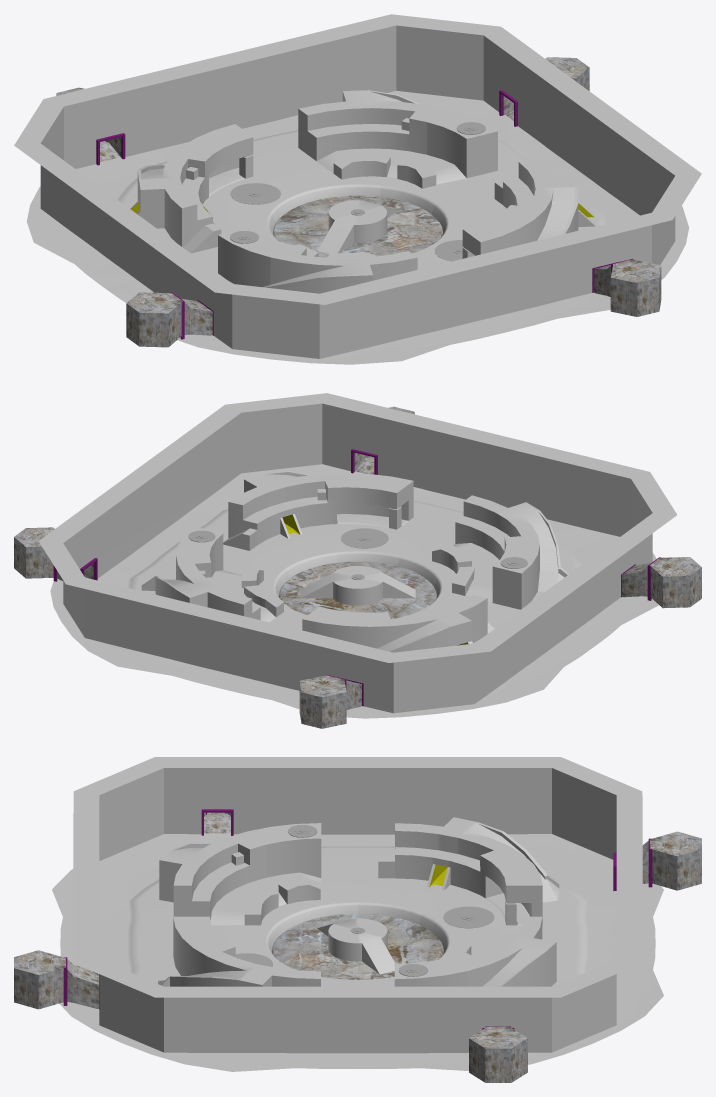
File: LevelTextured 1.fbx
3 views of the same model, one above another, from view 1: azimuth 30°, elevation 25°; view 2: azimuth 150°, elevation 25°; view 3: azimuth 270°, elevation 25° (orthographic). The views are drawn at different scales.
Visible parts, largest first — view 1: polySurface47 (×4), courtyard_outer_5 (×2), polySurface30 (×2), polySurface46, polySurface34, polySurface43, polySurface44, polySurface45, polySurface42, courtyard_cover1, polySurface51, polySurface38 (+8 smaller); view 2: polySurface47 (×4), polySurface30 (×2), courtyard_outer_5 (×2), polySurface42, polySurface41, courtyard_cover1 (×2), polySurface46, polySurface34, polySurface38, polySurface45, polySurface39, polySurface51 (+6 smaller); view 3: polySurface47 (×4), polySurface30 (×2), courtyard_outer_5 (×2), polySurface43, polySurface38, polySurface44, polySurface34, polySurface45, polySurface39, polySurface41, polySurface50, polySurface42 (+7 smaller).
Part boxes in pixels (x1,y1,x2,y2): polySurface47 (×4): [14, 14, 701, 358]; courtyard_outer_5 (×2): [218, 90, 497, 293]; polySurface30 (×2): [130, 124, 595, 258]; polySurface46: [380, 95, 578, 213]; polySurface34: [273, 195, 442, 257]; polySurface43: [39, 142, 315, 222]; polySurface44: [26, 188, 277, 286]; polySurface45: [242, 90, 439, 200]; polySurface42: [431, 171, 689, 260]; courtyard_cover1: [316, 148, 466, 188]; polySurface51: [126, 292, 212, 347]; polySurface38: [272, 266, 504, 364]; polySurface47 (×4): [38, 393, 676, 713]; polySurface30 (×2): [228, 470, 487, 652]; courtyard_outer_5 (×2): [141, 495, 568, 620]; polySurface42: [152, 468, 337, 578]; polySurface41: [282, 464, 465, 565]; courtyard_cover1 (×2): [211, 543, 499, 622]; polySurface46: [50, 539, 289, 621]; polySurface34: [279, 561, 436, 618]; polySurface38: [397, 511, 654, 586]; polySurface45: [61, 597, 306, 688]; polySurface39: [430, 555, 658, 646]; polySurface51: [622, 557, 701, 608]; polySurface47 (×4): [73, 757, 642, 1053]; polySurface30 (×2): [158, 817, 559, 986]; courtyard_outer_5 (×2): [159, 823, 556, 986]; polySurface43: [419, 847, 663, 950]; polySurface38: [52, 847, 296, 950]; polySurface44: [358, 834, 583, 924]; polySurface34: [272, 913, 443, 979]; polySurface45: [438, 941, 663, 1042]; polySurface39: [132, 833, 357, 924]; polySurface41: [59, 941, 292, 1042]; polySurface50: [14, 950, 98, 1009]; polySurface42: [122, 968, 357, 1071].
Size of the model in its own units: 186 by 22 by 186.
